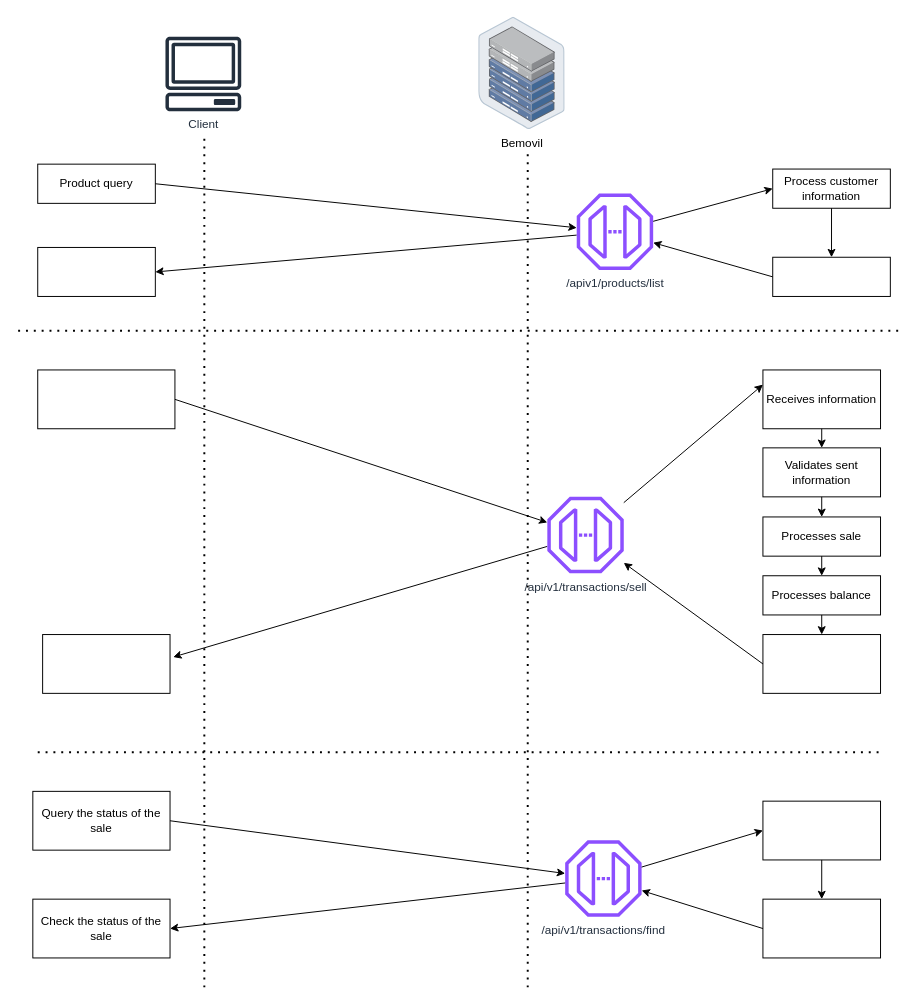
This 918x1005 diagram has some shape labels left out. The box of each missing label's shape, as (x1, y1, x2, y2) in pixels:
Query sale: (762, 800, 881, 860)
Receives confirmation/result of the sale: (42, 634, 170, 693)
Receives product IDs and information: (37, 246, 155, 296)
Returns product information: (772, 256, 890, 296)
Returns sale information: (762, 898, 881, 958)
Returns sale result information: (762, 634, 881, 693)
Selling products, sends information with the product ID: (37, 369, 175, 429)
